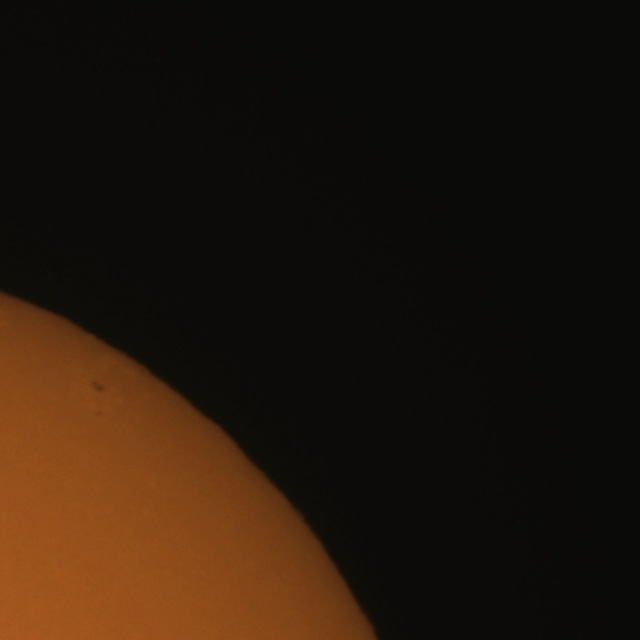sunspot: (89, 378, 107, 396)
